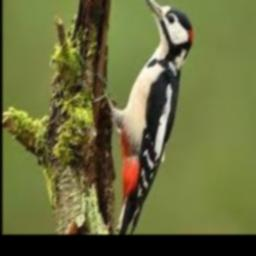Woodpecker: (91, 0, 192, 235)
